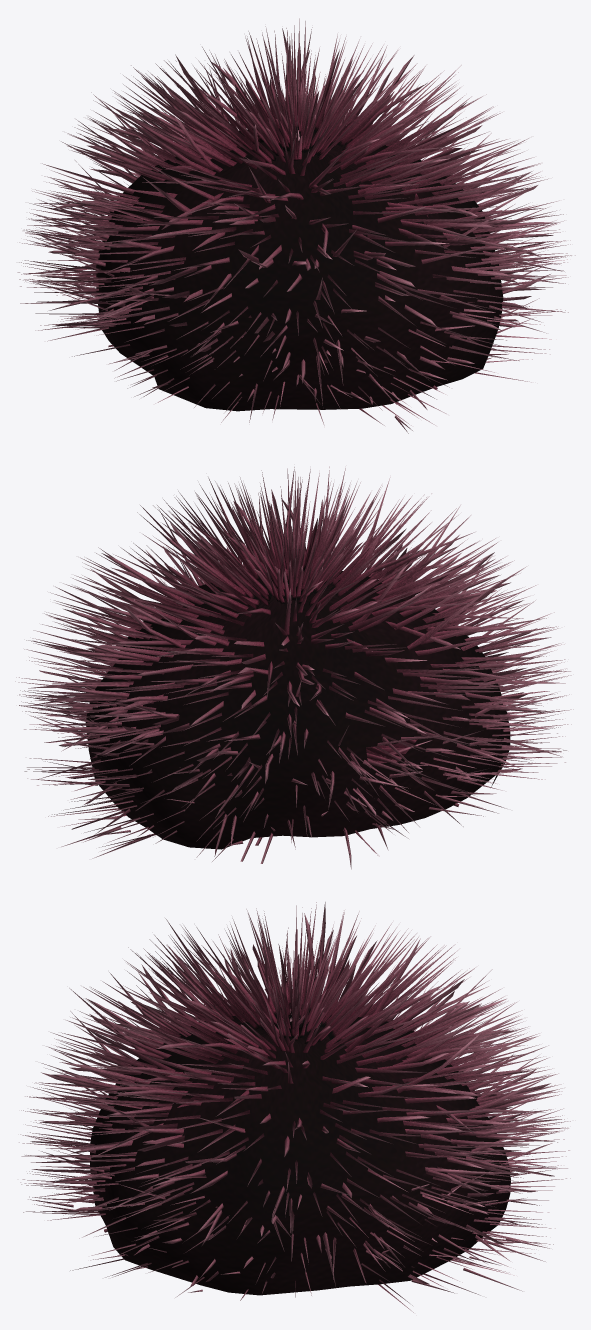
File: Urchin_FBX_still.fbx
3 views of the same model, one above another, from view 1: azimuth 30°, elevation 25°; view 2: azimuth 150°, elevation 25°; view 3: azimuth 270°, elevation 25° (orthographic).
Parts seen in each view (by area): view 1: Urchin_gameasset; view 2: Urchin_gameasset; view 3: Urchin_gameasset.
Boxes of the visible parts, x1,y1,x2,y2 form: Urchin_gameasset: [17, 18, 575, 433]; Urchin_gameasset: [15, 466, 573, 869]; Urchin_gameasset: [19, 902, 570, 1312].
Bounding box in the file's own units: 3.48 × 2.01 × 3.48.
2 materials, 2 textured.
